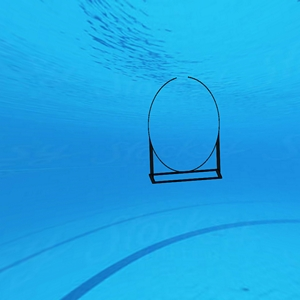circle: (146, 73, 225, 189)
